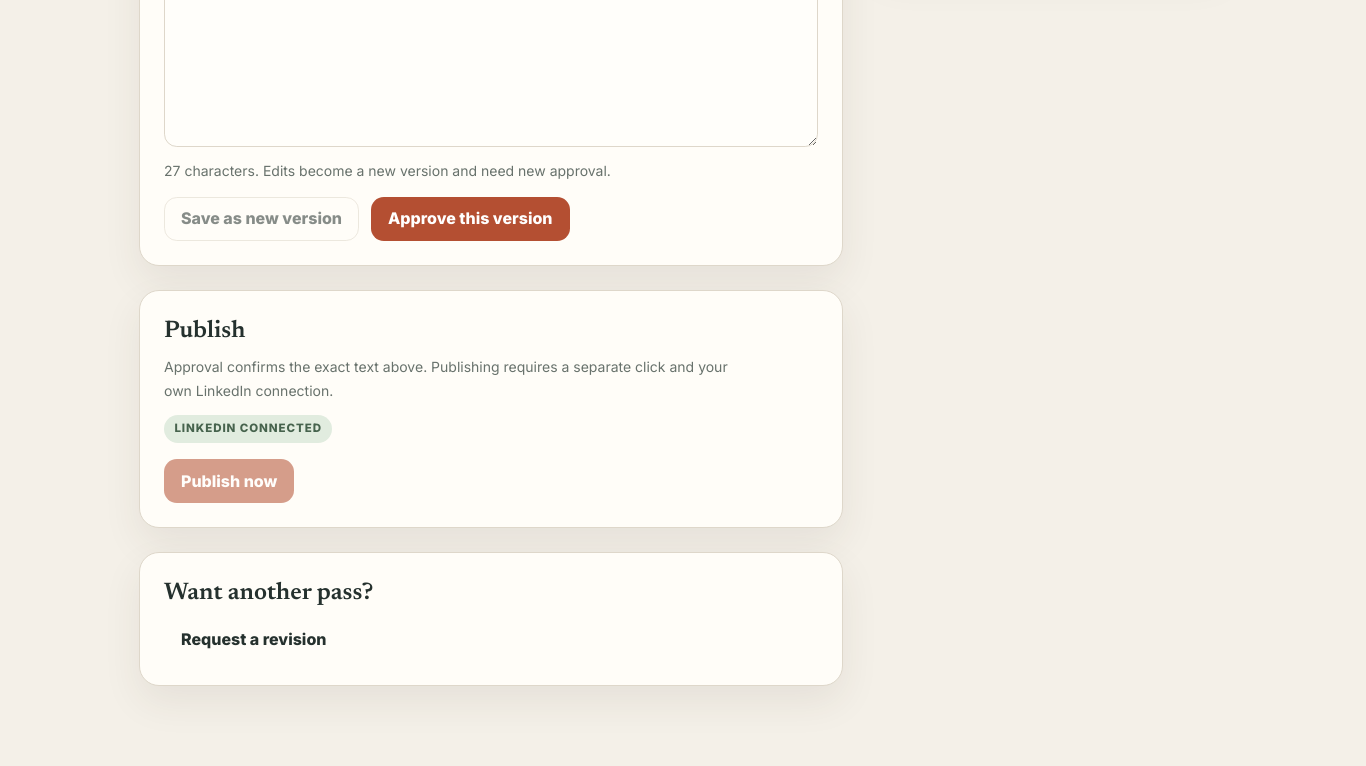
Scenario: shows a refused revision's own reason without offering Settings for unrelated failures
(page scrolled)
Click the button "Request a revision".
click(254, 639)  # box [164, 617, 344, 661]
(page scrolled)
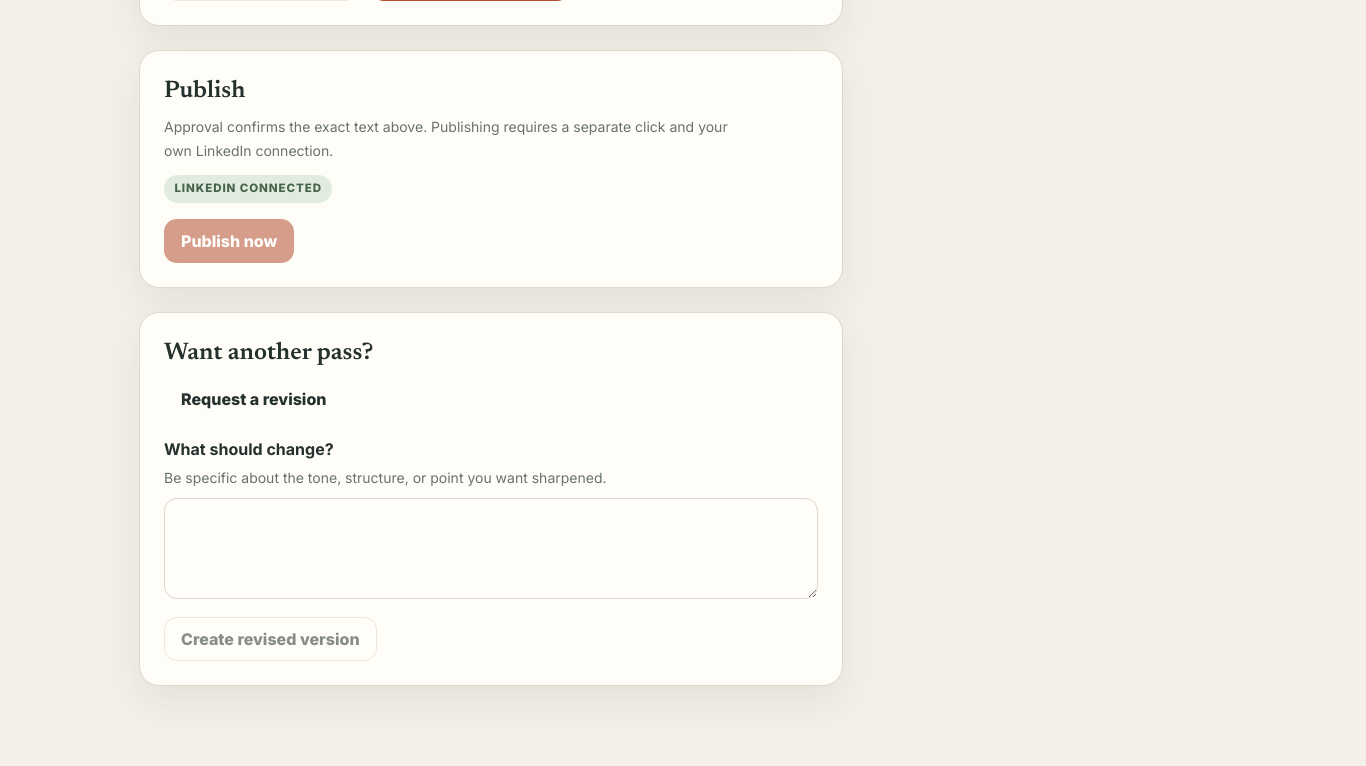
Type "Sharpen the opening" into the text box labelled "What should change?".
click(491, 549); type("Sharpen the opening")  # box [164, 498, 818, 599]
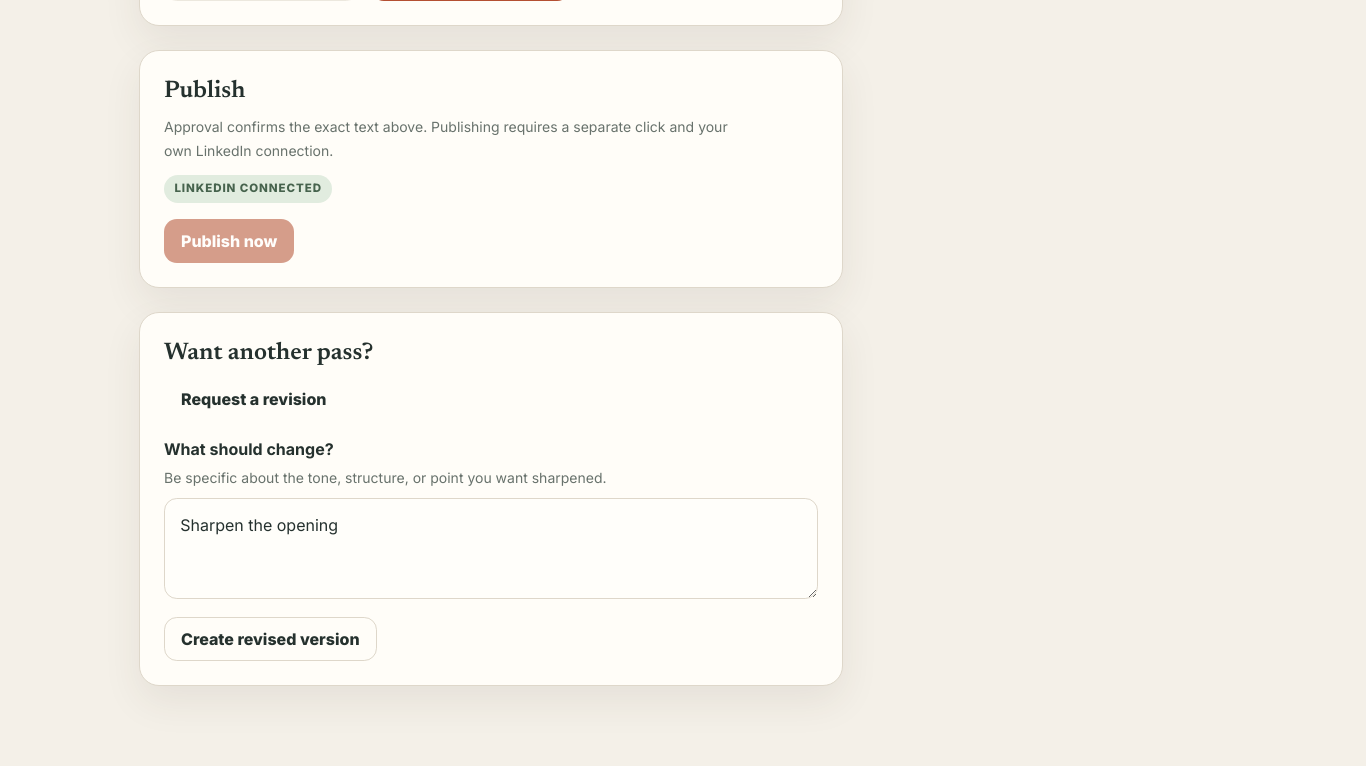
Click the button "Create revised version".
click(270, 639)  # box [164, 617, 377, 661]
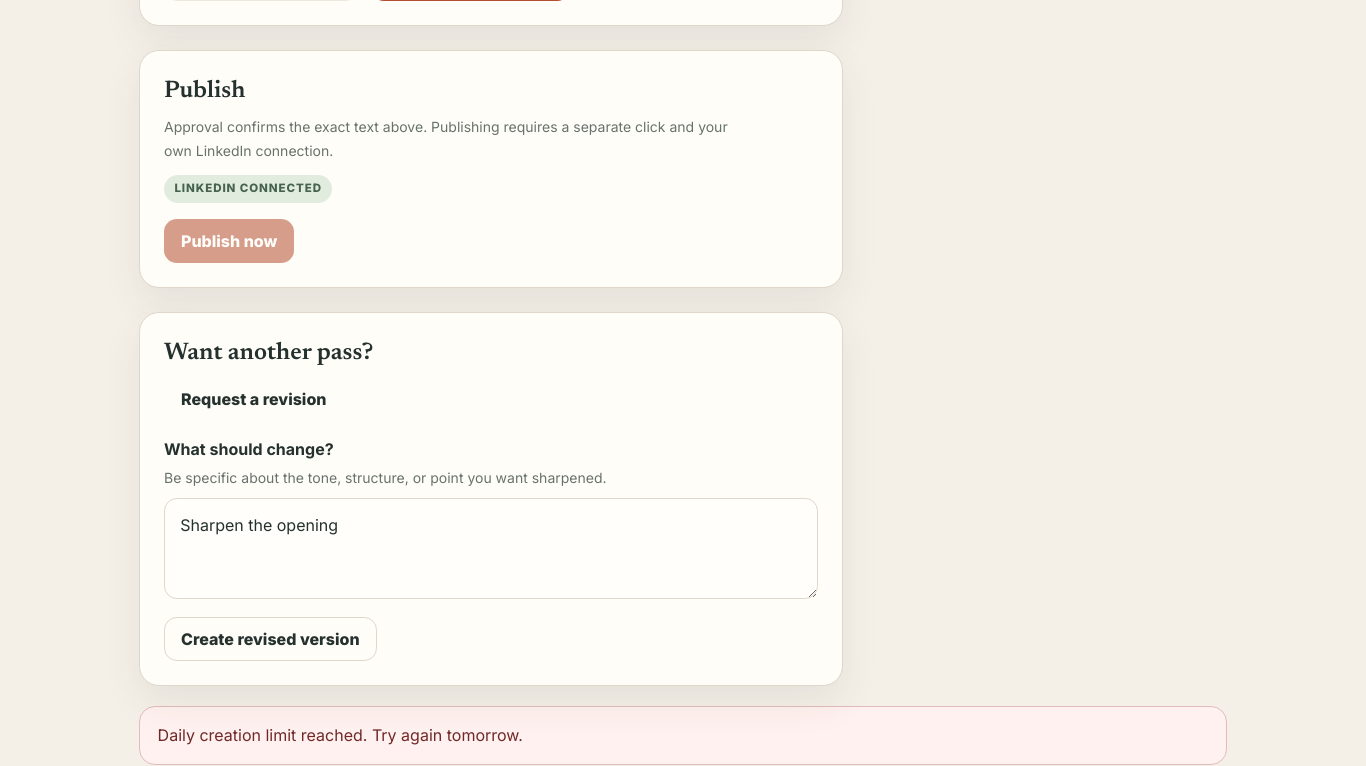
Expected: the message reads "Daily creation limit reached. Try again tomorrow.", [158, 725, 523, 745]
